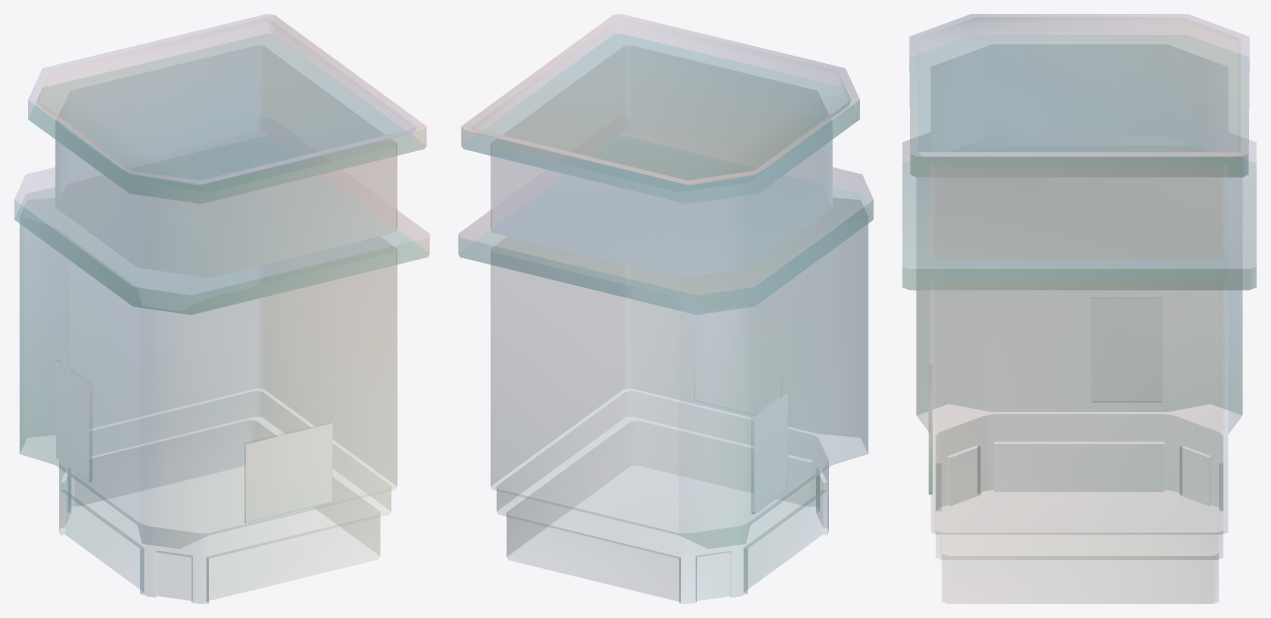
Rendered from CEN_BAD5.preview.glb.
3 renders of one model, left to right at view 1: azimuth 30°, elevation 25°; view 2: azimuth 150°, elevation 25°; view 3: azimuth 270°, elevation 25°, orthographic. The views are drawn at different scales.
Parts seen in each view (by area): view 1: obj_1aa0, obj_b80, obj_440, obj_24d0, obj_2320, obj_1eb0, obj_16c0, obj_2c90, obj_2ec0, obj_880, obj_2870; view 2: obj_1aa0, obj_b80, obj_440, obj_24d0, obj_2320, obj_1eb0, obj_16c0, obj_dc0, obj_880, obj_2870, obj_2c90, obj_2ec0; view 3: obj_1aa0, obj_b80, obj_440, obj_24d0, obj_1eb0, obj_2320, obj_16c0, obj_2870, obj_880, obj_2c90.
Part boxes in pixels (box(x1,y1,x2,y2)): obj_1aa0: box(15, 34, 428, 314); obj_b80: box(56, 250, 397, 534); obj_440: box(20, 140, 397, 548); obj_24d0: box(41, 25, 407, 180); obj_2320: box(14, 14, 429, 314); obj_1eb0: box(65, 420, 380, 600); obj_16c0: box(59, 391, 391, 603); obj_2c90: box(56, 360, 332, 522); obj_2ec0: box(56, 361, 331, 522); obj_880: box(20, 140, 95, 453); obj_2870: box(28, 14, 425, 184); obj_1aa0: box(459, 34, 872, 314); obj_b80: box(490, 250, 831, 534); obj_440: box(490, 140, 867, 548); obj_24d0: box(480, 25, 846, 180); obj_2320: box(458, 14, 873, 314); obj_1eb0: box(506, 421, 822, 601); obj_16c0: box(496, 391, 828, 603); obj_dc0: box(750, 261, 817, 433); obj_880: box(792, 140, 867, 453); obj_2870: box(462, 14, 859, 184); obj_2c90: box(694, 321, 787, 513); obj_2ec0: box(755, 394, 786, 512); obj_1aa0: box(902, 35, 1256, 289); obj_b80: box(931, 290, 1227, 534); obj_440: box(916, 177, 1242, 432); obj_24d0: box(922, 25, 1236, 151); obj_1eb0: box(942, 444, 1218, 603); obj_2320: box(902, 14, 1256, 289); obj_16c0: box(936, 414, 1222, 559); obj_2870: box(909, 14, 1249, 156); obj_880: box(916, 290, 1242, 415); obj_2c90: box(928, 364, 932, 494).
Bounding box in the file's own units: 55.37 × 82.74 × 57.25.
